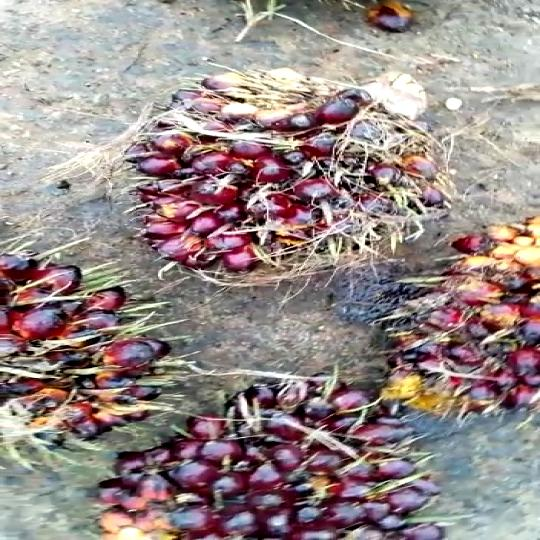kurang masak: (90, 62, 467, 297), (120, 363, 428, 540), (364, 231, 540, 450), (0, 266, 155, 444)
